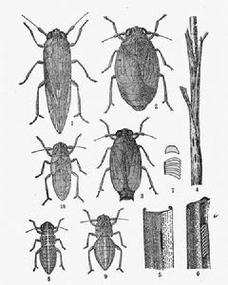Delphacidae: (18, 12, 98, 135), (99, 12, 176, 114), (93, 117, 159, 201), (31, 133, 88, 206), (80, 207, 127, 274), (25, 218, 68, 275)
